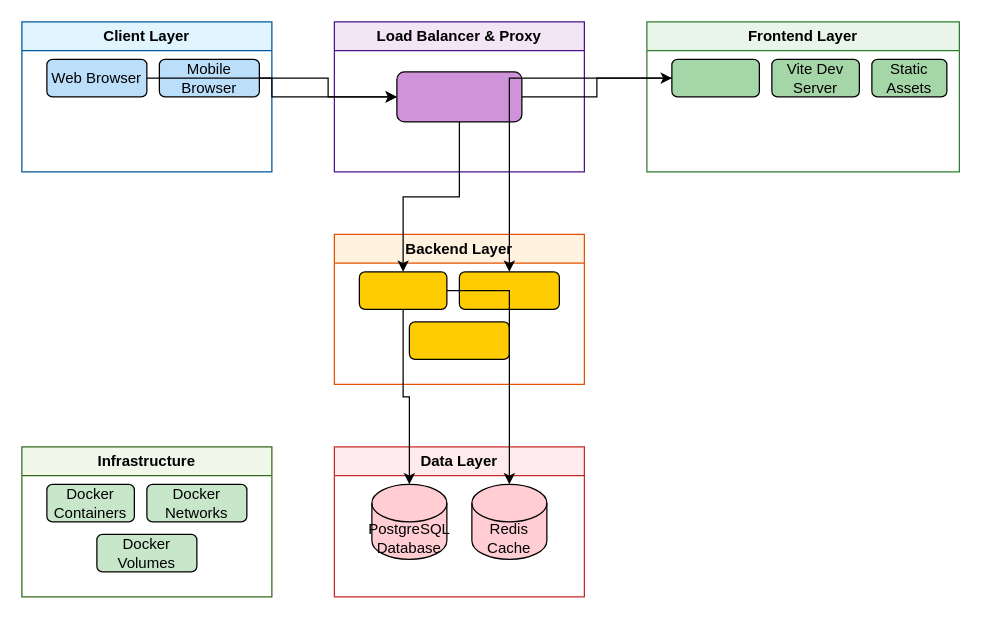
Some shapes in this 981 by 619 pixel diagram are drawn without their labels. Each missing label, with the centre of its shape:
"Authentication" goes at pixel 458 340.
"Django REST API" goes at pixel 402 290.
"Django REST Framework" goes at pixel 508 290.
"Nginx Reverse Proxy" goes at pixel 459 96.
"React TypeScript App" goes at pixel 715 77.
